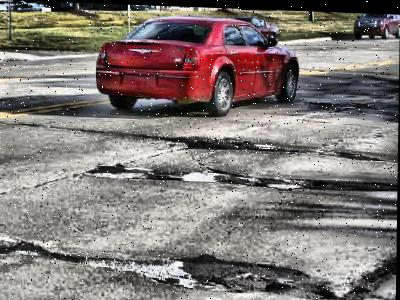pothole: (171, 249, 332, 299), (250, 172, 397, 191), (181, 132, 277, 150), (0, 238, 49, 257), (145, 169, 181, 180)
